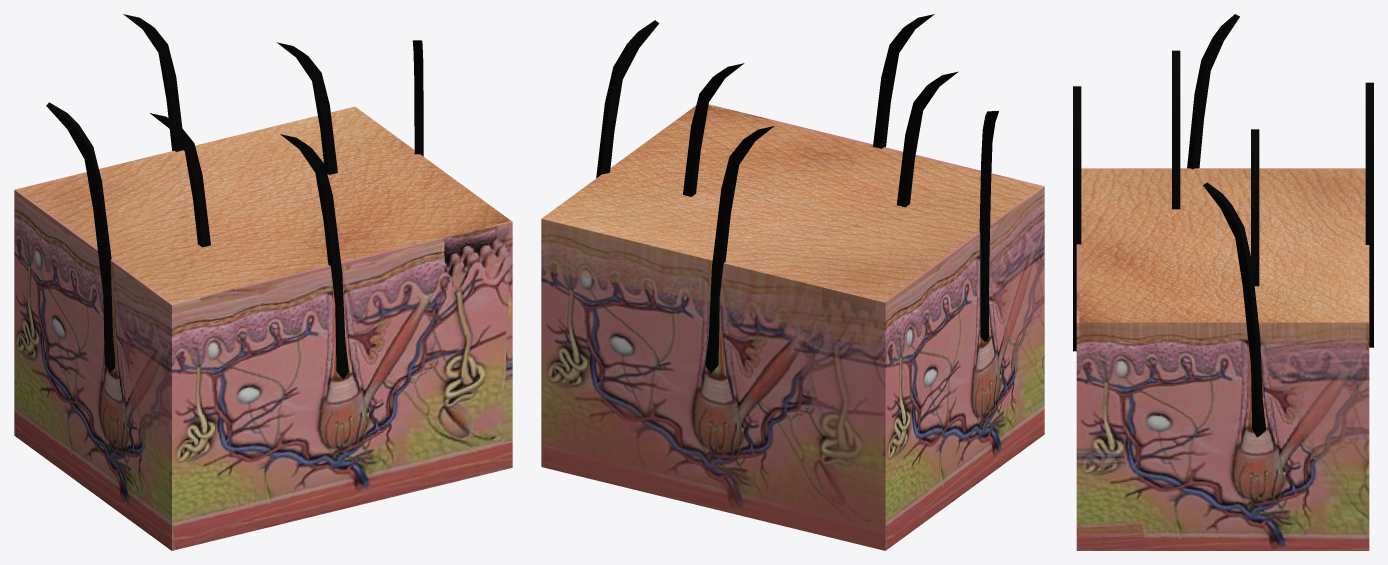
The model's file is Skin cross section 3d fbx.fbx.
The picture shows the model from 3 angles, left to right: view 1: azimuth 30°, elevation 25°; view 2: azimuth 150°, elevation 25°; view 3: azimuth 270°, elevation 25°; orthographic projection. The views are drawn at different scales.
Visible parts, largest first — view 1: root (×7); view 2: root (×7); view 3: root (×7).
Part boxes in pixels (x1,y1,x2,y2): root (×7): [14, 14, 512, 550]; root (×7): [541, 14, 1044, 550]; root (×7): [1073, 14, 1373, 550].
Size of the model in its own units: 0.3008 by 0.2875 by 0.2152.
Materials: 2 (1 with a texture image).
